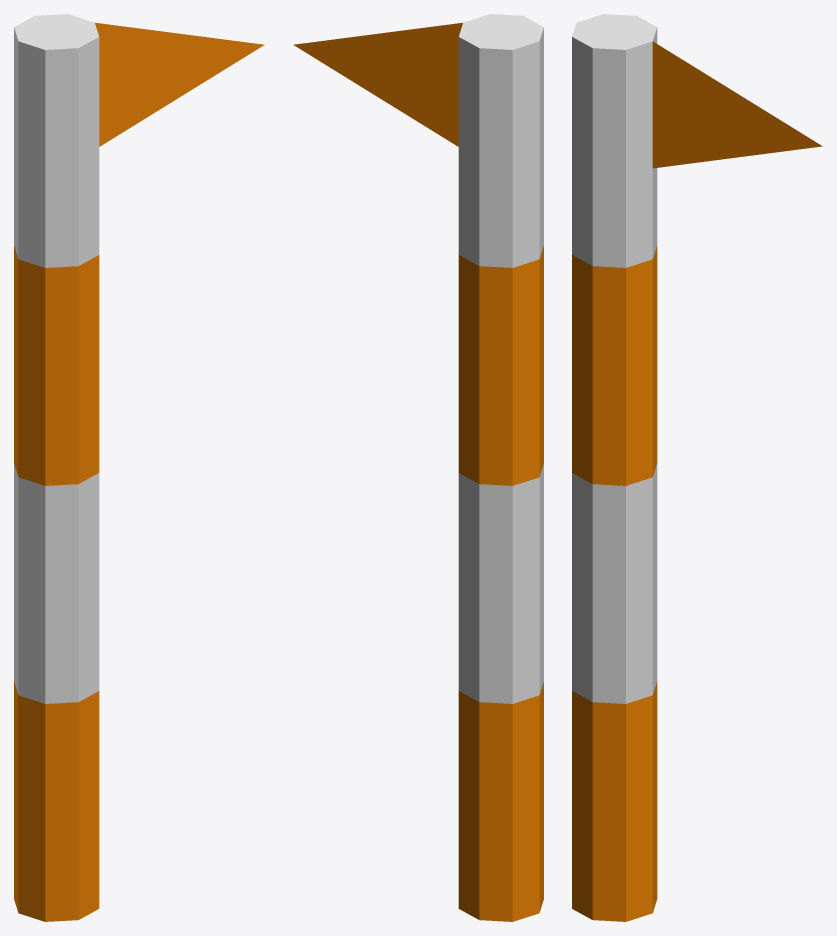
The model's file is marker.obj.
3 views of the same model, side by side, from view 1: azimuth 30°, elevation 25°; view 2: azimuth 150°, elevation 25°; view 3: azimuth 330°, elevation 25° (orthographic).
Parts seen in each view (by area): view 1: marker; view 2: marker; view 3: marker.
Boxes of the visible parts, x1,y1,x2,y2 form: marker: (14,14,264,921); marker: (293,14,543,921); marker: (572,14,822,921).
Size of the model in its own units: 0.71 by 2.4 by 0.22.
